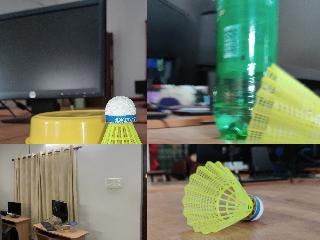shuttlecock: (239, 64, 319, 143), (180, 160, 262, 234), (84, 95, 146, 143)
